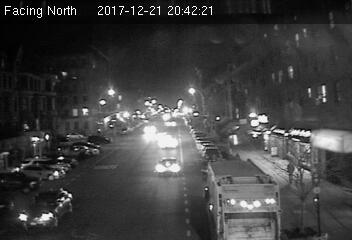car: (18, 187, 73, 230), (155, 156, 181, 175)
truck: (203, 160, 280, 240)
